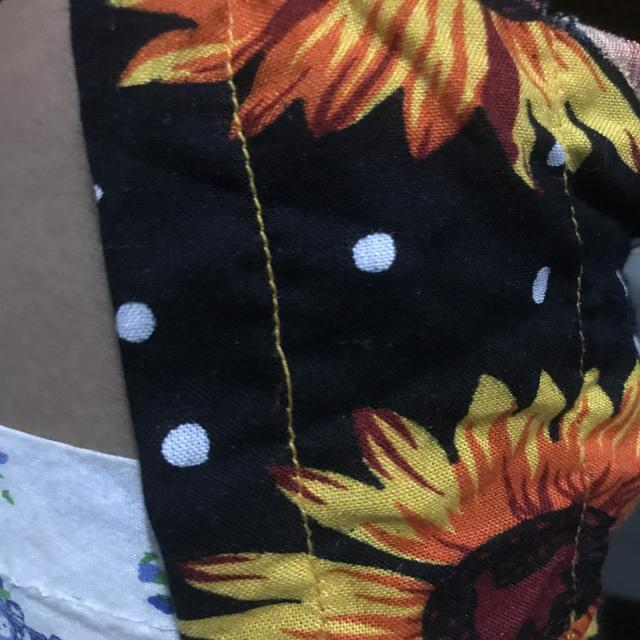good: (238, 186, 282, 301)
skip: (249, 330, 317, 426)
